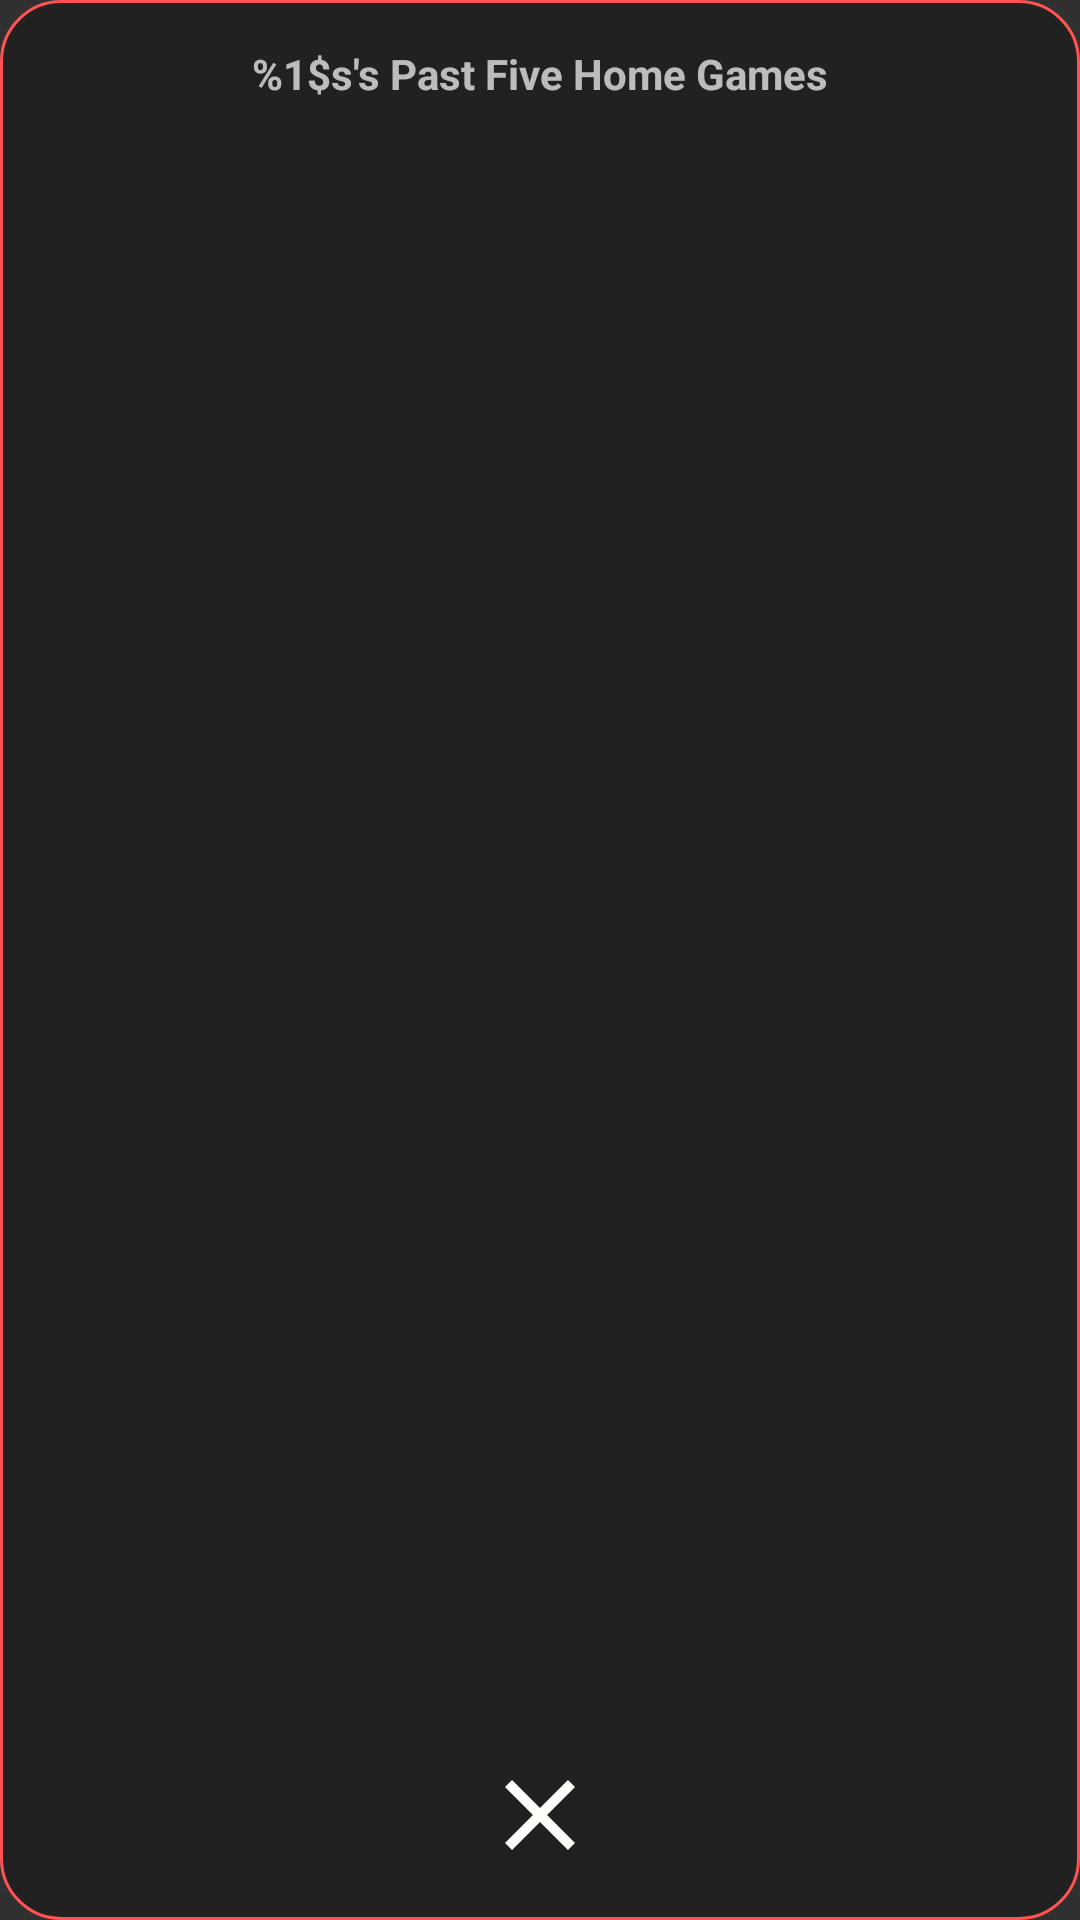

Screen size 1080*1920. Icon name, then its box in pixels as (x1, y1, x2, y2):
close: (505, 1780, 575, 1850)
